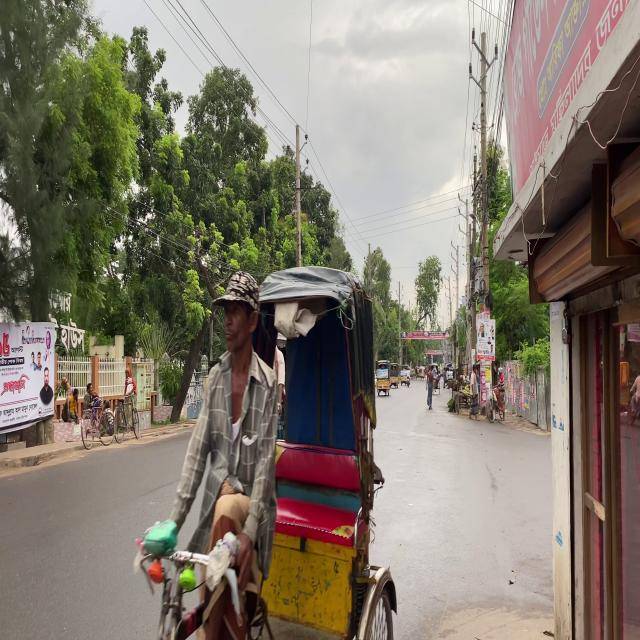rickshaw: (148, 274, 379, 630)
